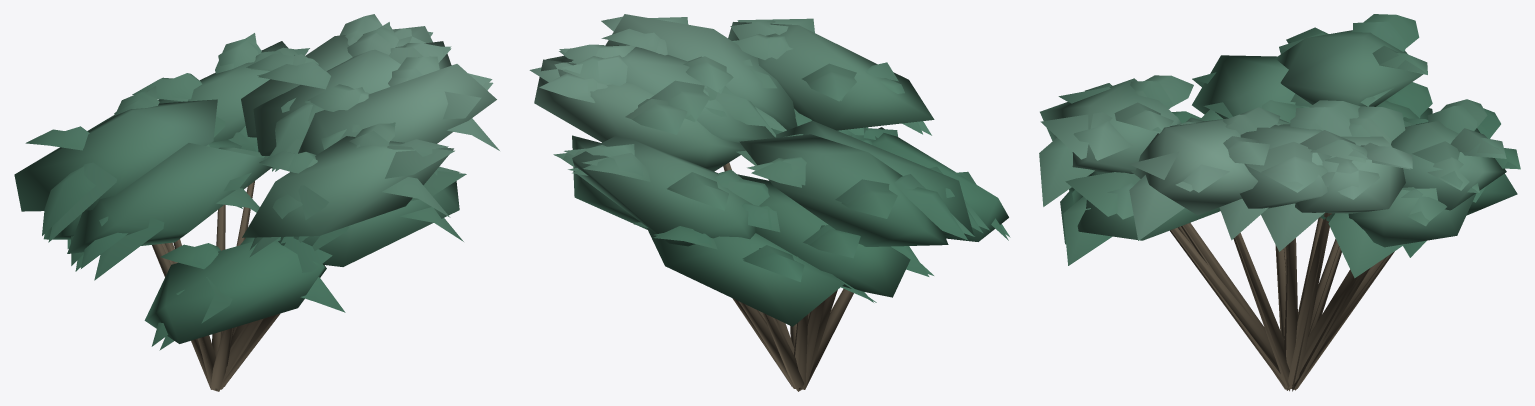
File: CoastalShrub.glb
3 views of the same model, side by side, from view 1: azimuth 30°, elevation 25°; view 2: azimuth 150°, elevation 25°; view 3: azimuth 270°, elevation 25° (orthographic). The views are drawn at different scales.
Visible parts, largest first — view 1: CoastalShrub_L2, CoastalShrub_L0, CoastalShrub_L1; view 2: CoastalShrub_L2, CoastalShrub_L0, CoastalShrub_L1; view 3: CoastalShrub_L2, CoastalShrub_L0, CoastalShrub_L1.
Boxes of the visible parts, x1,y1,x2,y2 form: CoastalShrub_L2: (14, 26, 496, 375); CoastalShrub_L0: (25, 14, 499, 391); CoastalShrub_L1: (48, 22, 493, 386); CoastalShrub_L2: (534, 14, 1008, 326); CoastalShrub_L0: (529, 16, 1008, 391); CoastalShrub_L1: (553, 17, 1010, 386); CoastalShrub_L2: (1040, 30, 1517, 289); CoastalShrub_L0: (1039, 14, 1520, 390); CoastalShrub_L1: (1040, 21, 1517, 391).
Size of the model in its own units: 1.3 by 0.9 by 1.1.
